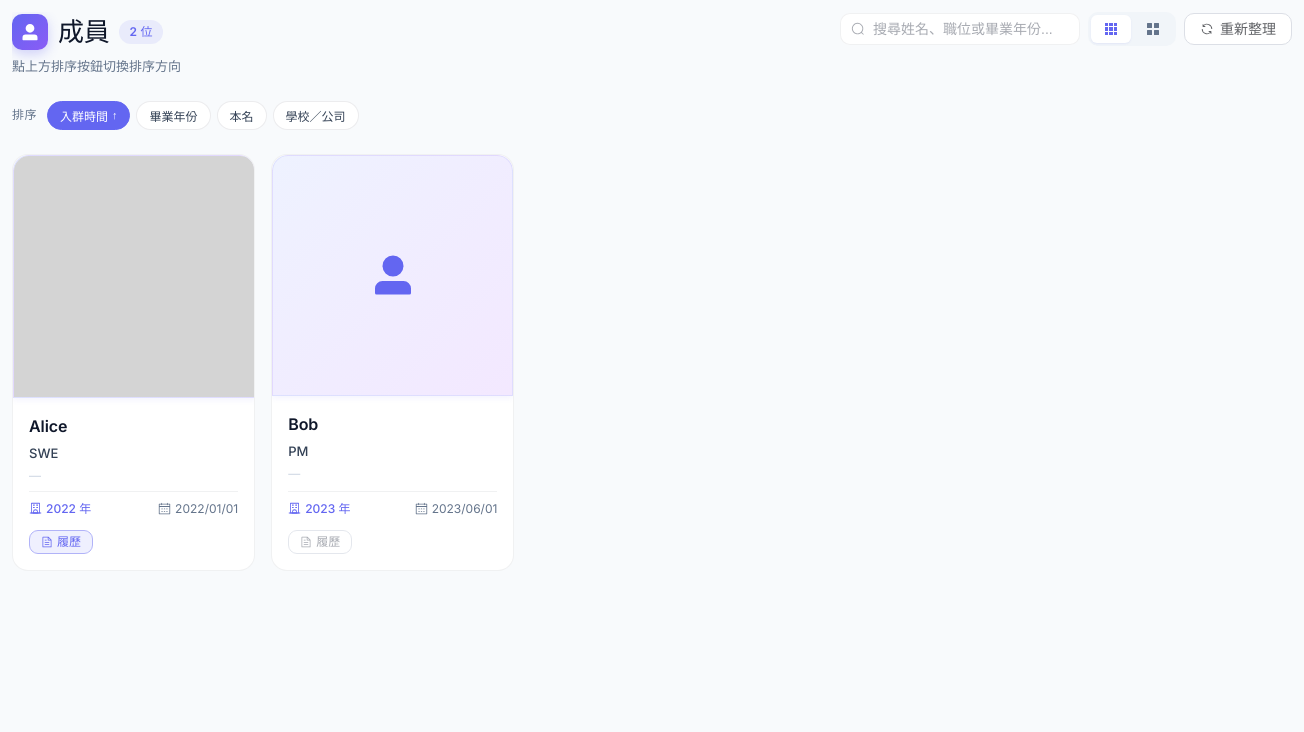
Members.vue › clicking view-list toggle switches to el-table and persists to localStorage
This screenshot has width=1304, height=732.
Click the tab with test id "view-list" at (1153, 29), box 1133,15 -> 1173,43
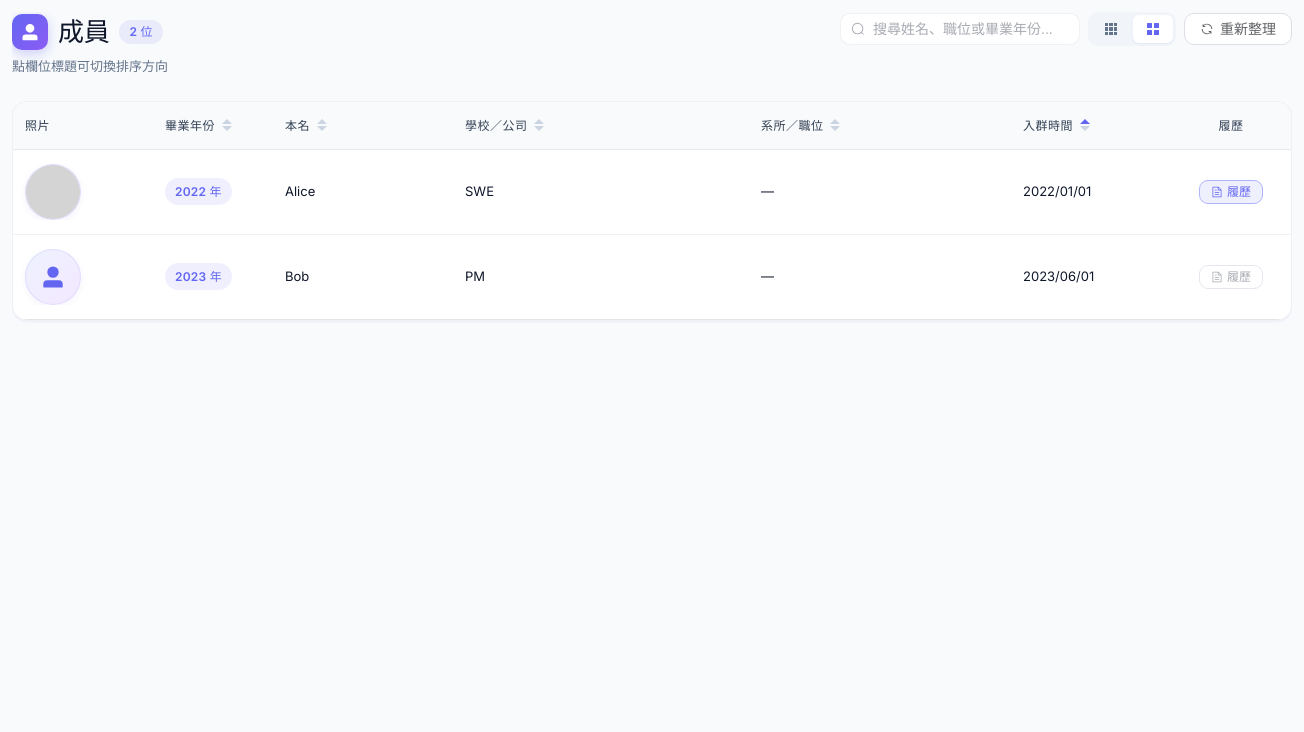
Now no elements with test id "member-card" are shown
Now the element that starts with "畢業年份" is shown, box 12,100 -> 1292,320
